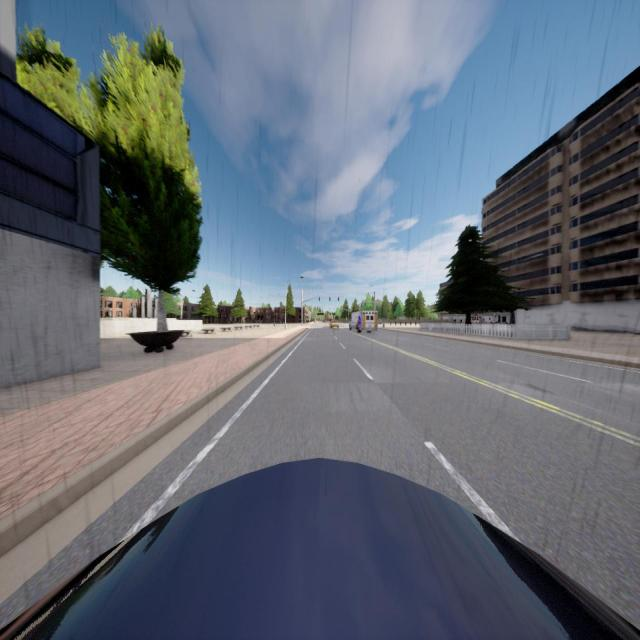Vehicle: (0, 455, 640, 639), (349, 311, 378, 333), (330, 320, 339, 329)
traffic_light: (329, 297, 331, 301), (319, 297, 320, 301), (338, 297, 339, 301)
